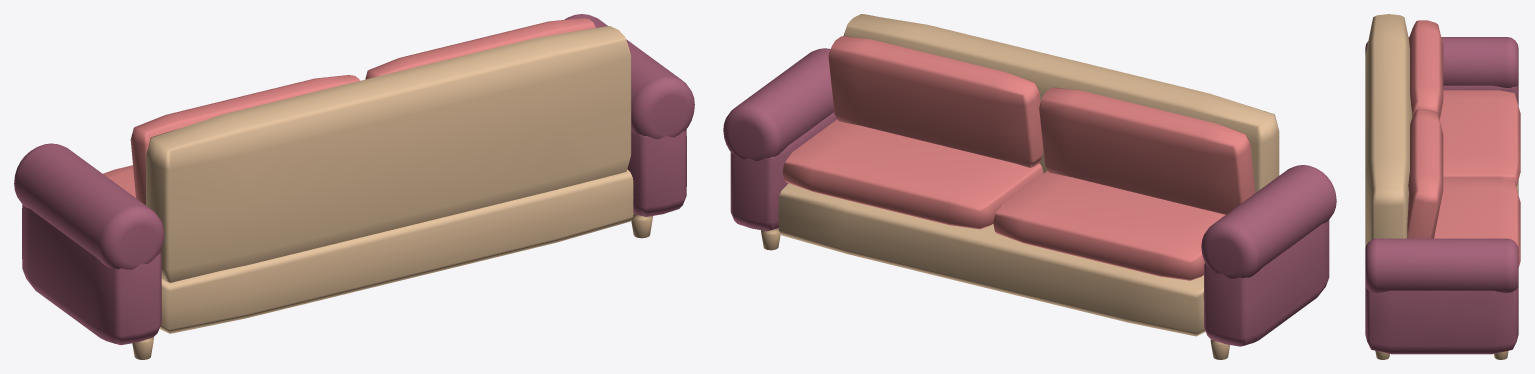
The model's file is BigBadVacuumCouch.glb.
The picture shows the model from 3 angles, left to right: view 1: azimuth 30°, elevation 25°; view 2: azimuth 150°, elevation 25°; view 3: azimuth 270°, elevation 25°; orthographic projection. The views are drawn at different scales.
Visible parts, largest first — view 1: Back, Arm, Seat, Cushion, Leg; view 2: Cushion, Arm, Seat, Back, Leg; view 3: Arm, Cushion, Back, Leg.
Part boxes in pixels (x1,y1,x2,y2): Back: [146, 26, 631, 282]; Arm: [14, 14, 694, 344]; Seat: [159, 169, 633, 333]; Cushion: [103, 18, 595, 204]; Leg: [132, 213, 652, 359]; Cushion: [782, 36, 1255, 280]; Arm: [723, 48, 1336, 346]; Seat: [778, 183, 1205, 336]; Back: [843, 14, 1279, 192]; Leg: [761, 228, 1229, 359]; Arm: [1365, 37, 1518, 354]; Cushion: [1407, 20, 1520, 267]; Back: [1365, 14, 1412, 248]; Leg: [1375, 350, 1508, 359].
Bounding box in the file's own units: 90.4 × 31 × 26.35.
